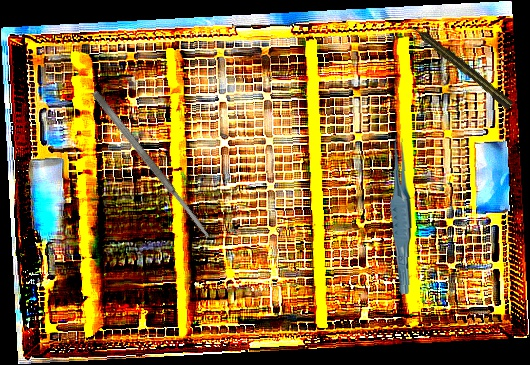Handpiece: (407, 21, 515, 111)
Spatula Surgical: (90, 89, 213, 241)
Tissue Forceps: (387, 132, 416, 295)
